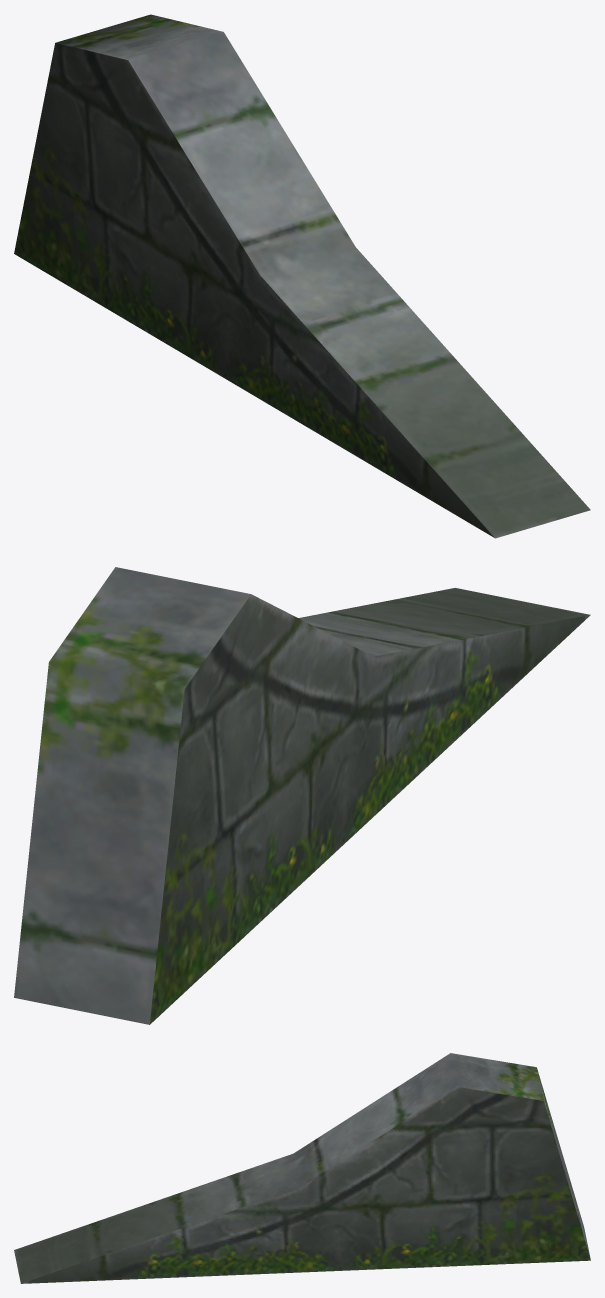
Rendered from environment_stone_shitai_001_d.FBX.
The picture shows the model from 3 angles, top to bottom: view 1: azimuth 30°, elevation 25°; view 2: azimuth 150°, elevation 25°; view 3: azimuth 270°, elevation 25°; orthographic projection. The views are drawn at different scales.
Parts seen in each view (by area): view 1: environment_stone_shitai_001_d; view 2: environment_stone_shitai_001_d; view 3: environment_stone_shitai_001_d.
Boxes of the visible parts, x1,y1,x2,y2 form: environment_stone_shitai_001_d: (14,14,590,538); environment_stone_shitai_001_d: (14,567,590,1024); environment_stone_shitai_001_d: (14,1053,590,1283).
Size of the model in its own units: 145 by 213 by 618.
